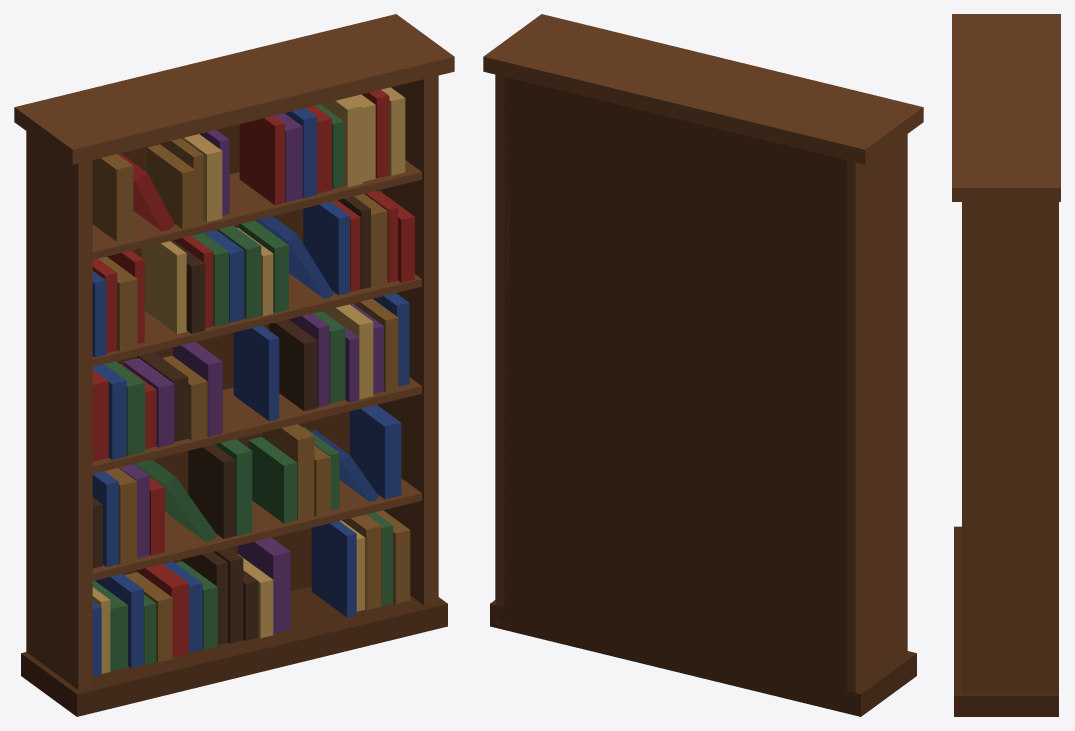
The model's file is bookcase.glb.
3 renders of one model, left to right at view 1: azimuth 30°, elevation 25°; view 2: azimuth 150°, elevation 25°; view 3: azimuth 270°, elevation 25°, orthographic. The views are drawn at different scales.
Visible parts, largest first — view 1: bookcase2; view 2: bookcase2; view 3: bookcase2.
Part boxes in pixels (x1=…): bookcase2: x1=14, y1=14, x2=454, y2=716; bookcase2: x1=483, y1=14, x2=923, y2=716; bookcase2: x1=952, y1=14, x2=1060, y2=716.
Bounding box in the file's own units: 2.12 × 3.02 × 0.56.
